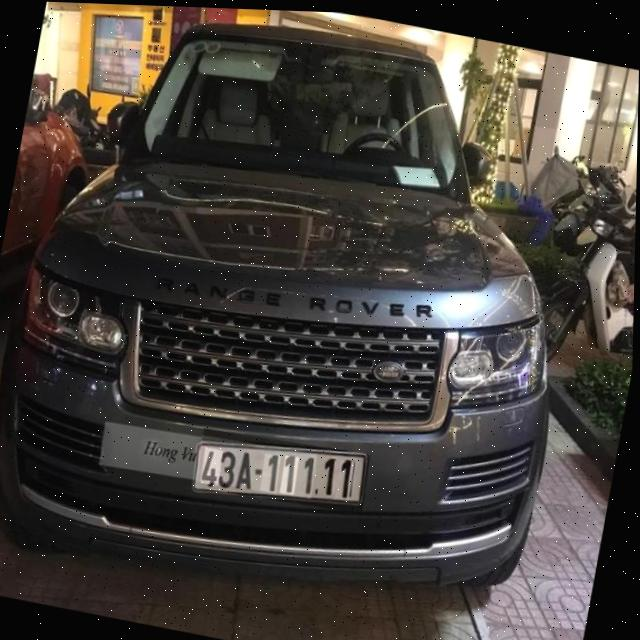car: (0, 0, 623, 640), (0, 75, 111, 317)
plate: (187, 424, 373, 524)
